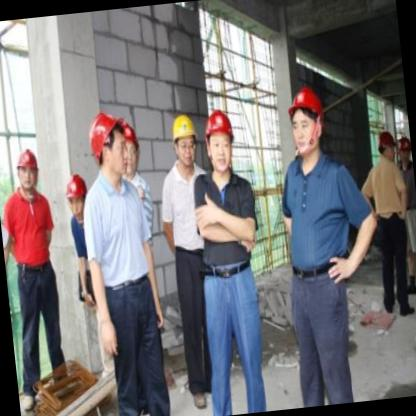helmet: (89, 108, 139, 183), (283, 84, 329, 163), (202, 108, 240, 174), (108, 117, 142, 177), (169, 112, 202, 170), (15, 144, 43, 195), (64, 171, 91, 222), (375, 127, 399, 173), (396, 133, 412, 164)
